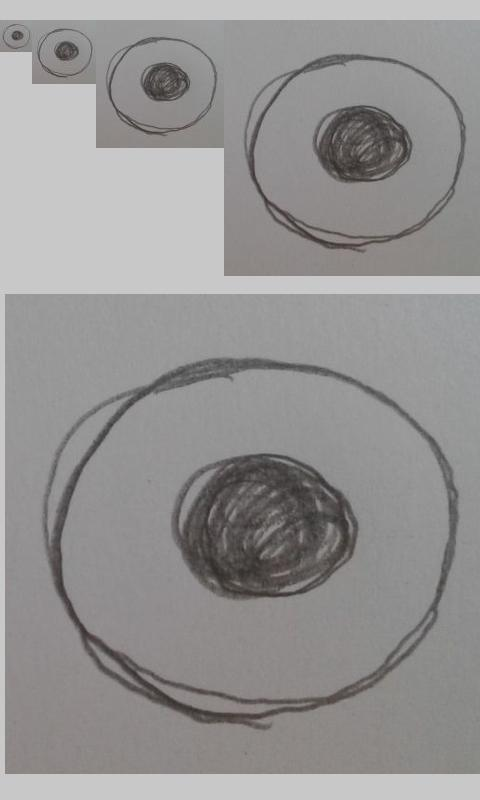radio_button: (43, 356, 462, 723), (241, 50, 469, 251), (105, 36, 218, 135), (36, 27, 95, 78), (2, 23, 31, 49)
